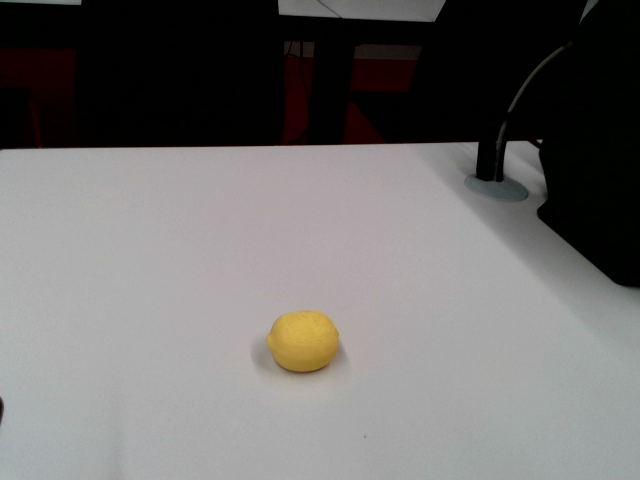lemon: (266, 311, 338, 372)
